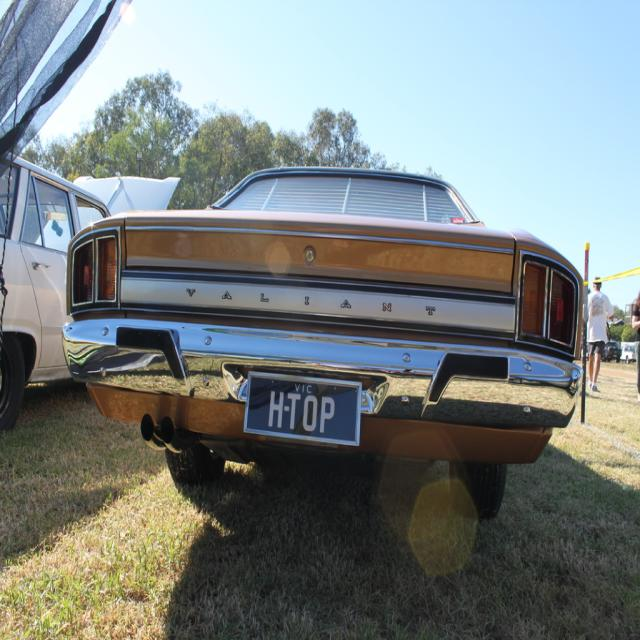car: (53, 169, 590, 514)
